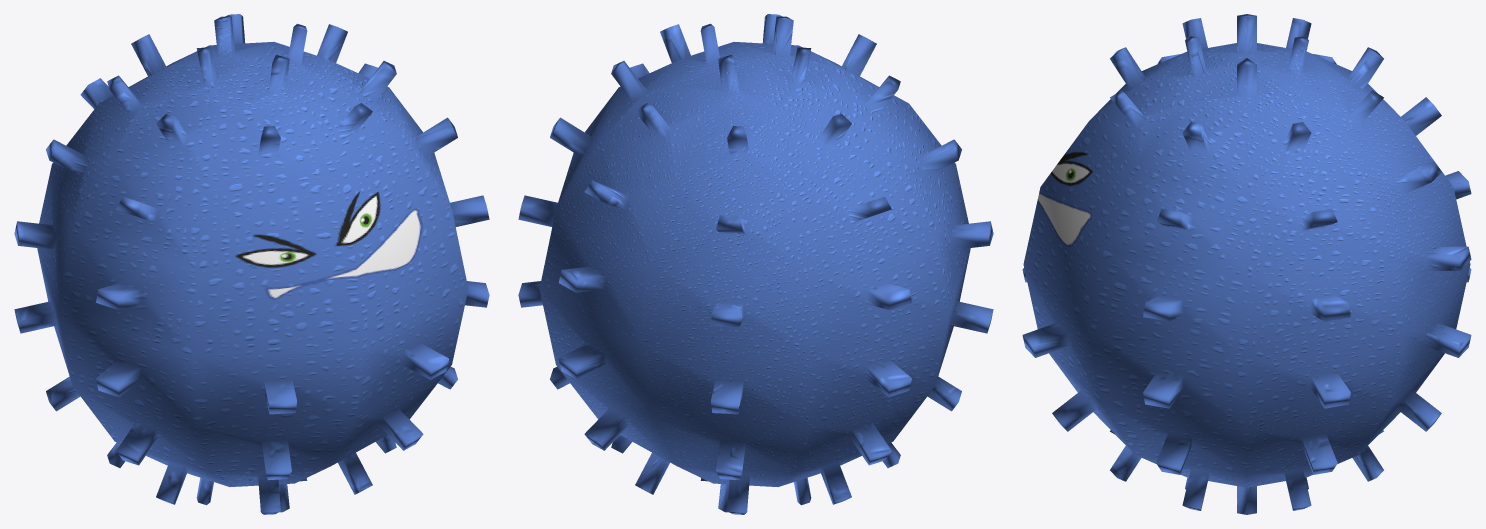
The model's file is Export_Tex_Virus_001.fbx.
The picture shows the model from 3 angles, left to right: view 1: azimuth 30°, elevation 25°; view 2: azimuth 150°, elevation 25°; view 3: azimuth 270°, elevation 25°; orthographic projection.
Parts seen in each view (by area): view 1: pSphere1; view 2: pSphere1; view 3: pSphere1.
Boxes of the visible parts, box(x1,y1,x2,y2) form: pSphere1: box(14, 14, 489, 514); pSphere1: box(518, 14, 993, 514); pSphere1: box(1022, 14, 1471, 514).
Bounding box in the file's own units: 5.41 × 6.03 × 5.41.
1 material, 1 textured.
